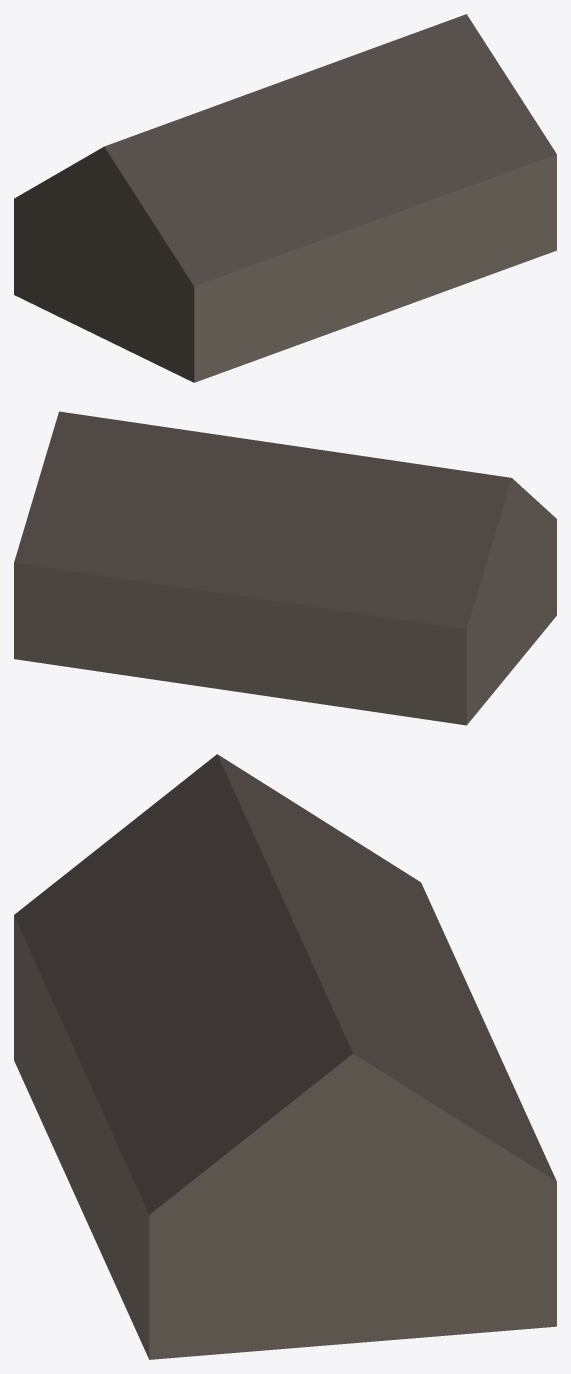
3 renders of one model, top to bottom at view 1: azimuth 30°, elevation 25°; view 2: azimuth 150°, elevation 25°; view 3: azimuth 270°, elevation 25°, orthographic. The views are drawn at different scales.
Visible parts, largest first — view 1: HP-w228035340; view 2: HP-w228035340; view 3: HP-w228035340.
Boxes of the visible parts, left/top/right/bottom form: HP-w228035340: left=14, top=14, right=556, bottom=382; HP-w228035340: left=14, top=411, right=556, bottom=725; HP-w228035340: left=14, top=754, right=556, bottom=1359.
Size of the model in its own units: 14.77 by 6 by 10.19.
